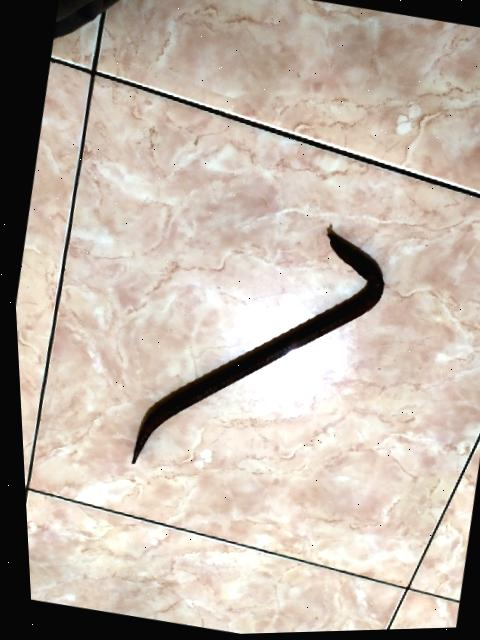crow bar: (117, 209, 393, 473)
